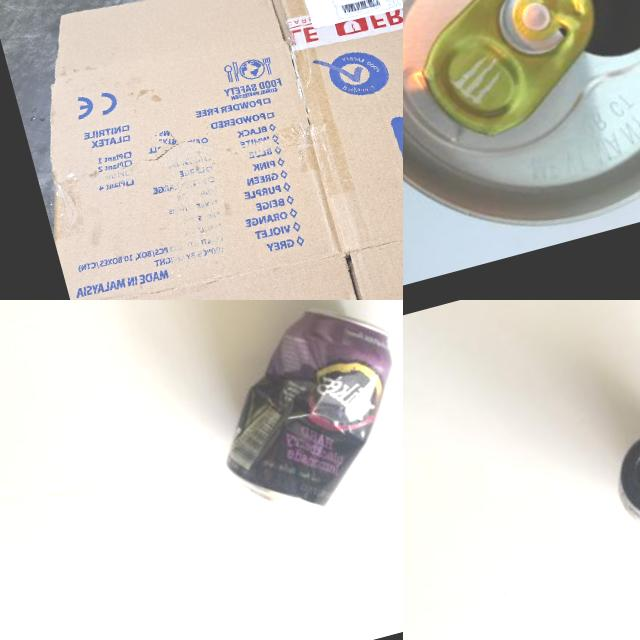aba de lata: (403, 0, 620, 148)
lata: (403, 0, 640, 274), (192, 300, 403, 529), (605, 417, 640, 542)
papelão: (0, 0, 403, 300)
